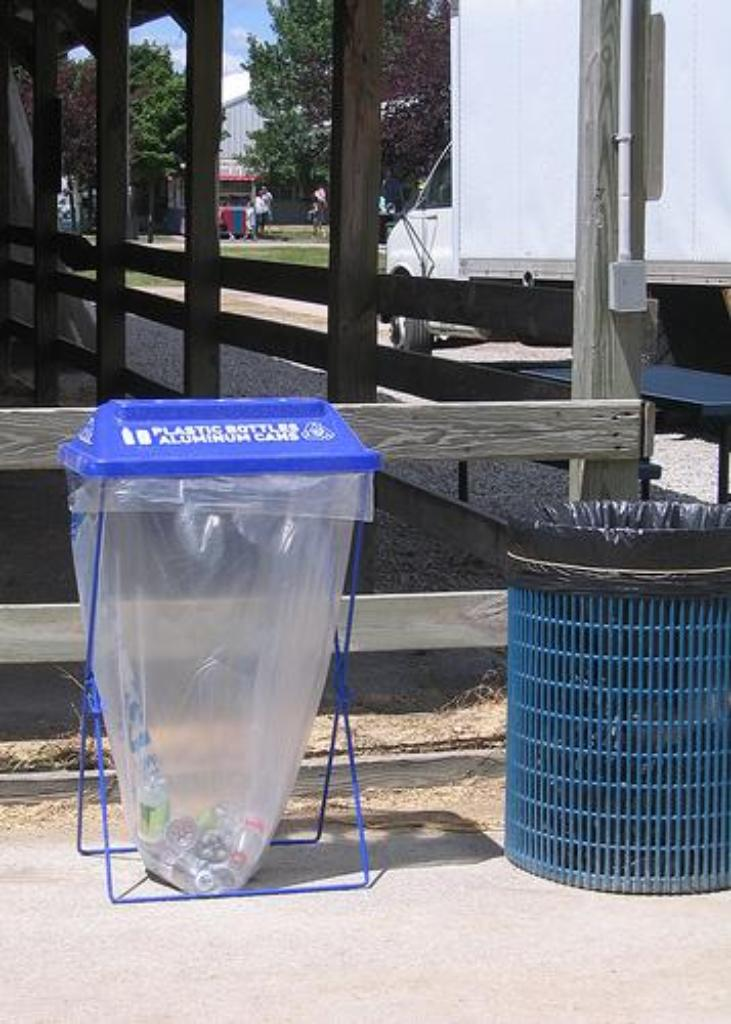dustbin: (67, 368, 396, 915), (501, 479, 731, 907)
